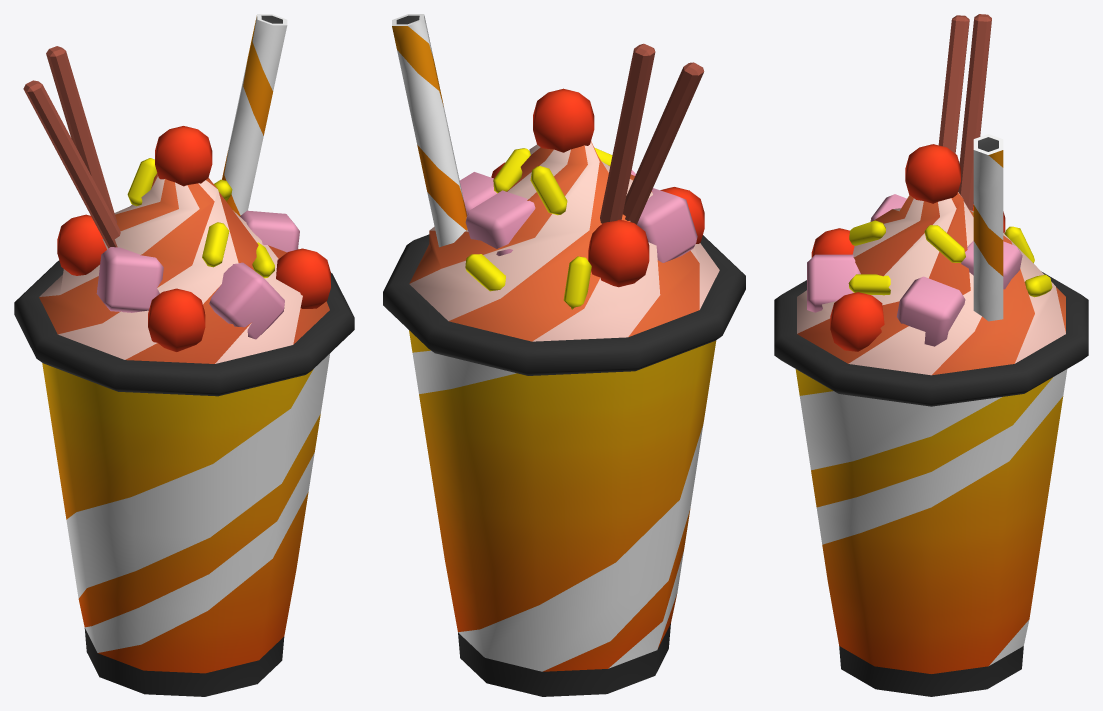
Rendered from MilkTea.fbx.
3 views of the same model, side by side, from view 1: azimuth 30°, elevation 25°; view 2: azimuth 150°, elevation 25°; view 3: azimuth 270°, elevation 25° (orthographic). The views are drawn at different scales.
Visible parts, largest first — view 1: Map02_Douong_LV5; view 2: Map02_Douong_LV5; view 3: Map02_Douong_LV5.
Boxes of the visible parts, x1=… form: Map02_Douong_LV5: x1=14, y1=14, x2=354, y2=696; Map02_Douong_LV5: x1=383, y1=14, x2=745, y2=696; Map02_Douong_LV5: x1=774, y1=14, x2=1088, y2=696.
Size of the model in its own units: 67.22 by 133 by 63.93.
